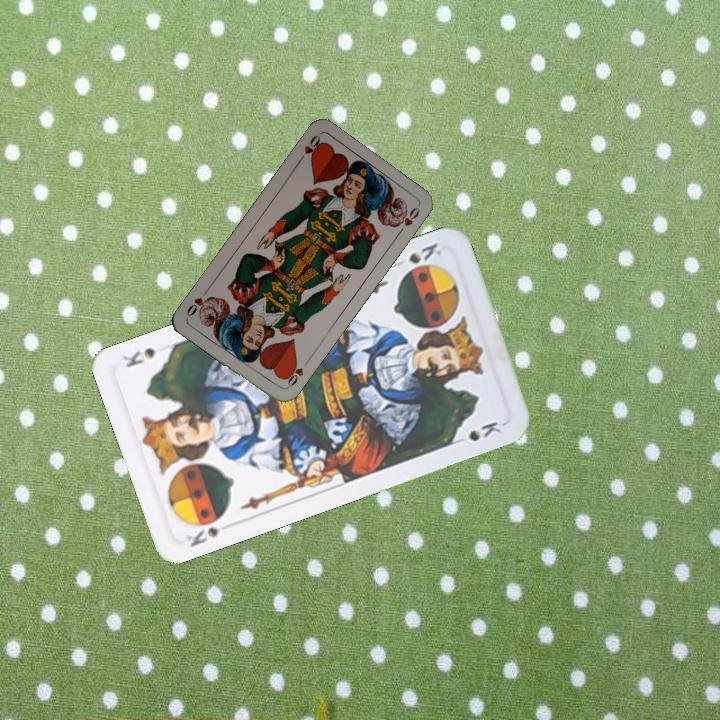HO: (293, 131, 325, 166), (280, 356, 311, 391)
SK: (182, 518, 236, 550), (404, 239, 444, 267)
